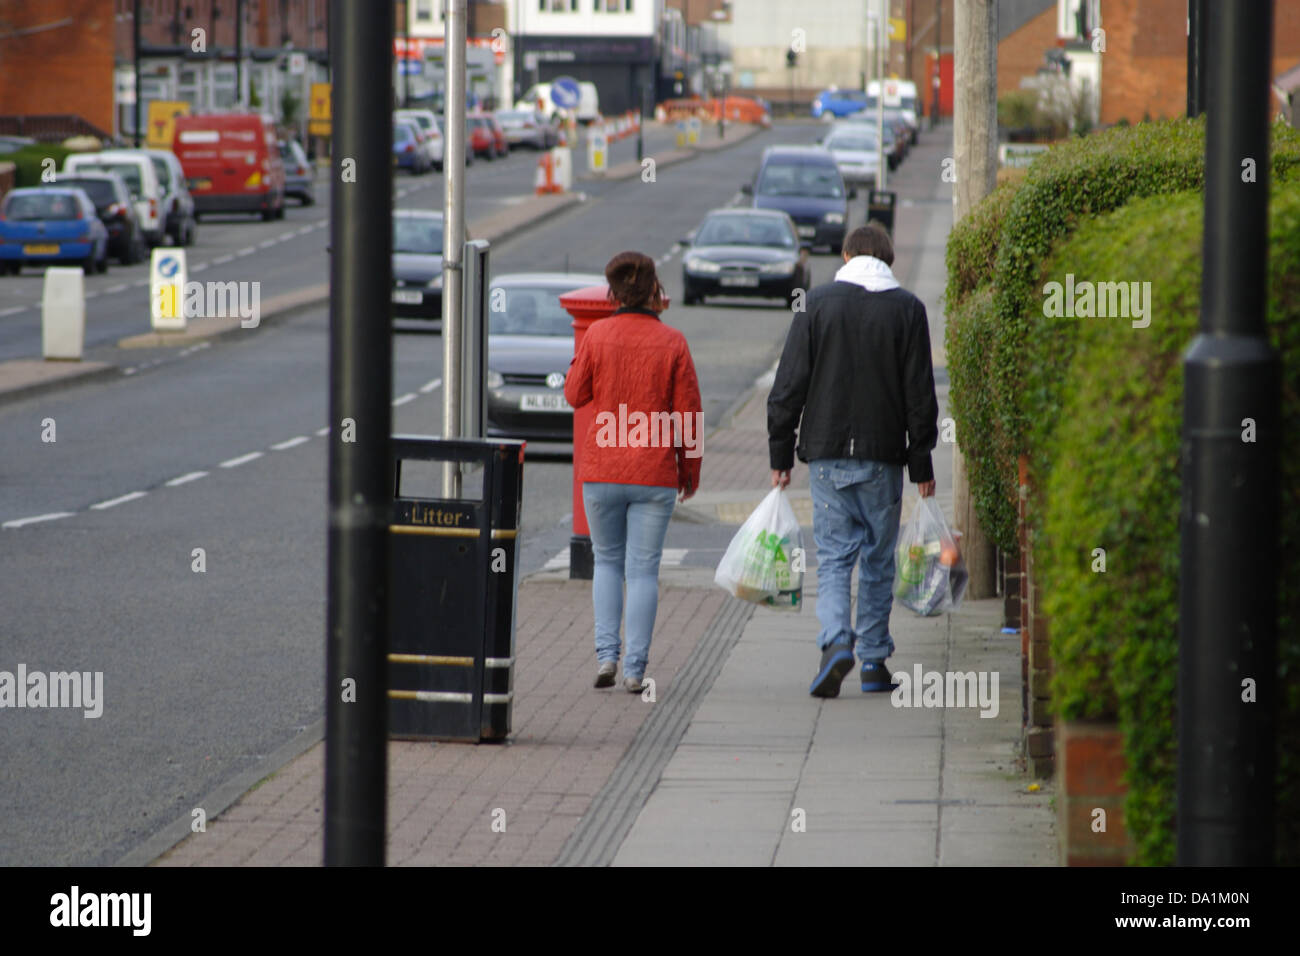car: (486, 270, 606, 457), (682, 202, 814, 315), (171, 115, 291, 230), (748, 139, 850, 256), (386, 207, 479, 327), (1, 182, 107, 279), (69, 153, 162, 245), (78, 173, 137, 266), (151, 144, 203, 250), (818, 123, 886, 189), (498, 103, 550, 153), (278, 136, 314, 209), (391, 120, 427, 175), (462, 109, 495, 161), (418, 104, 443, 167)
person: (769, 221, 939, 702), (565, 248, 706, 712)
